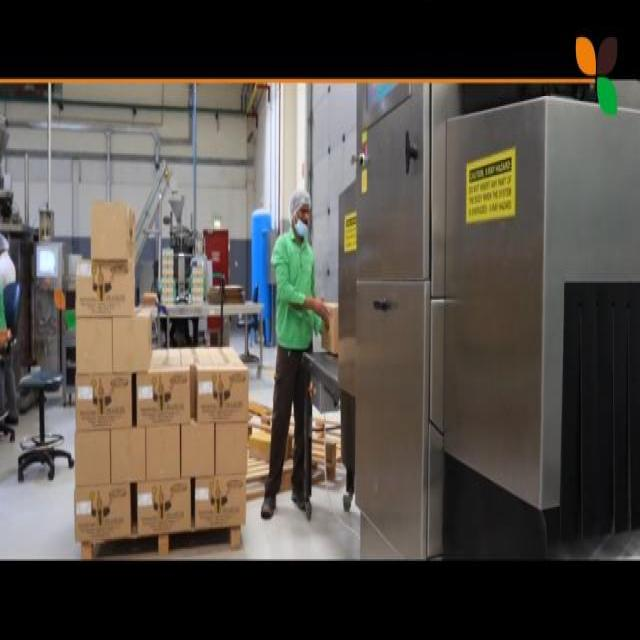hairnet: (289, 191, 310, 214), (0, 232, 9, 250)
